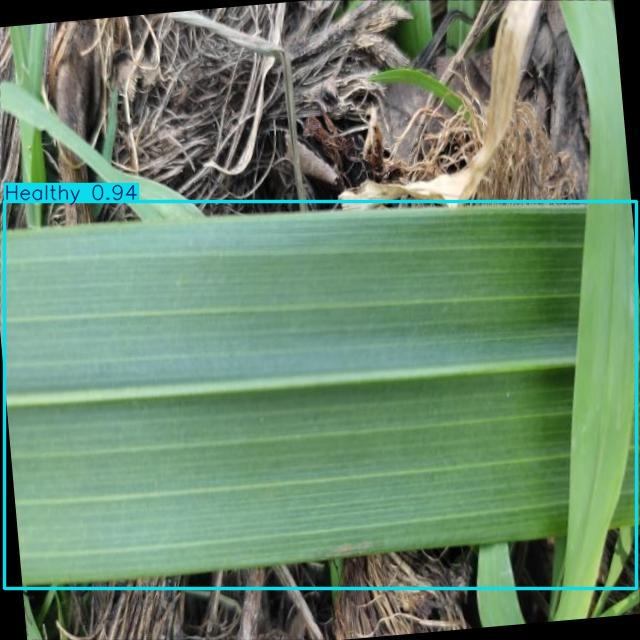Healthy: (5, 202, 637, 589)
